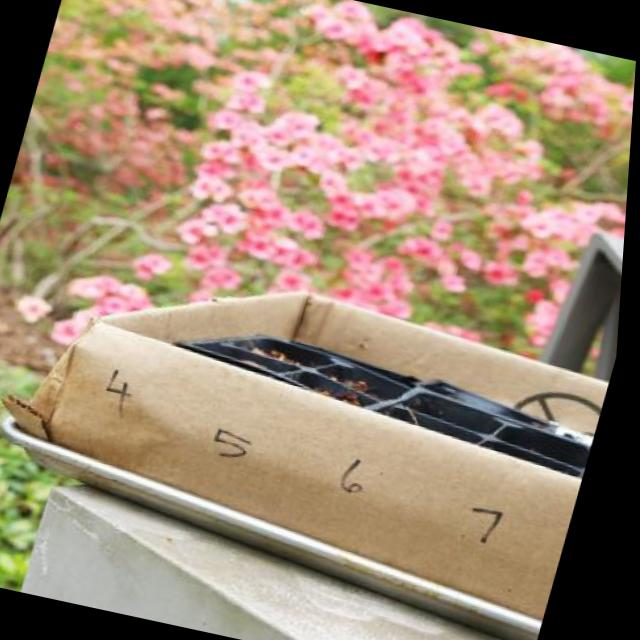box: (5, 230, 623, 636)
